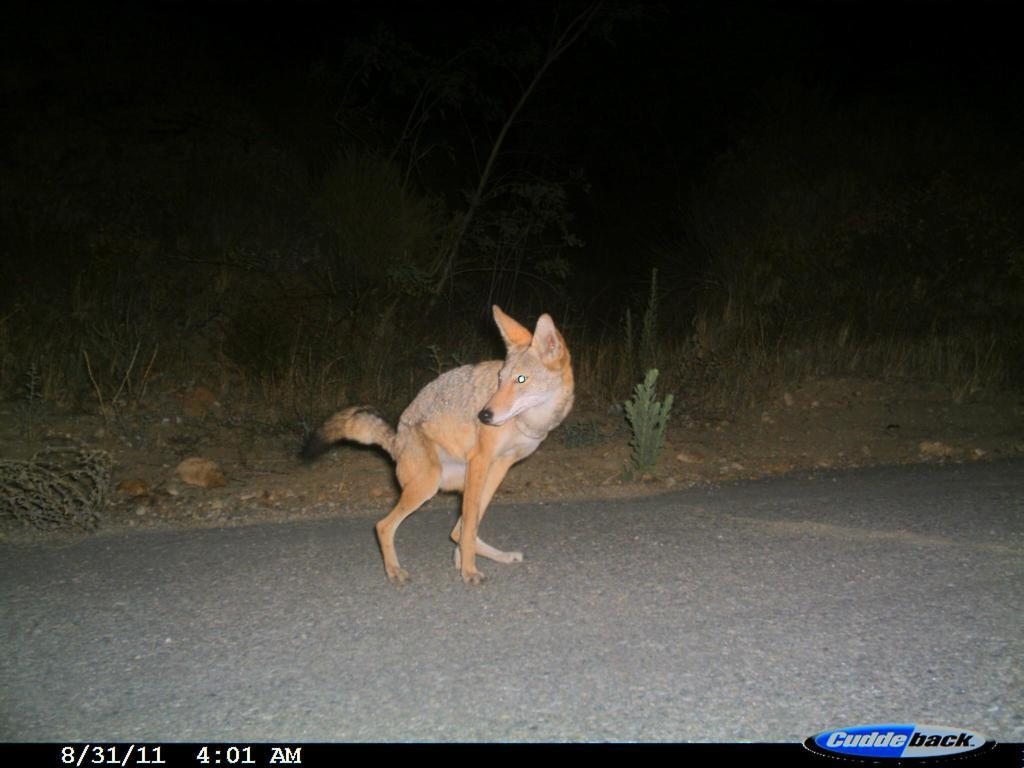coyote: (295, 297, 591, 594)
